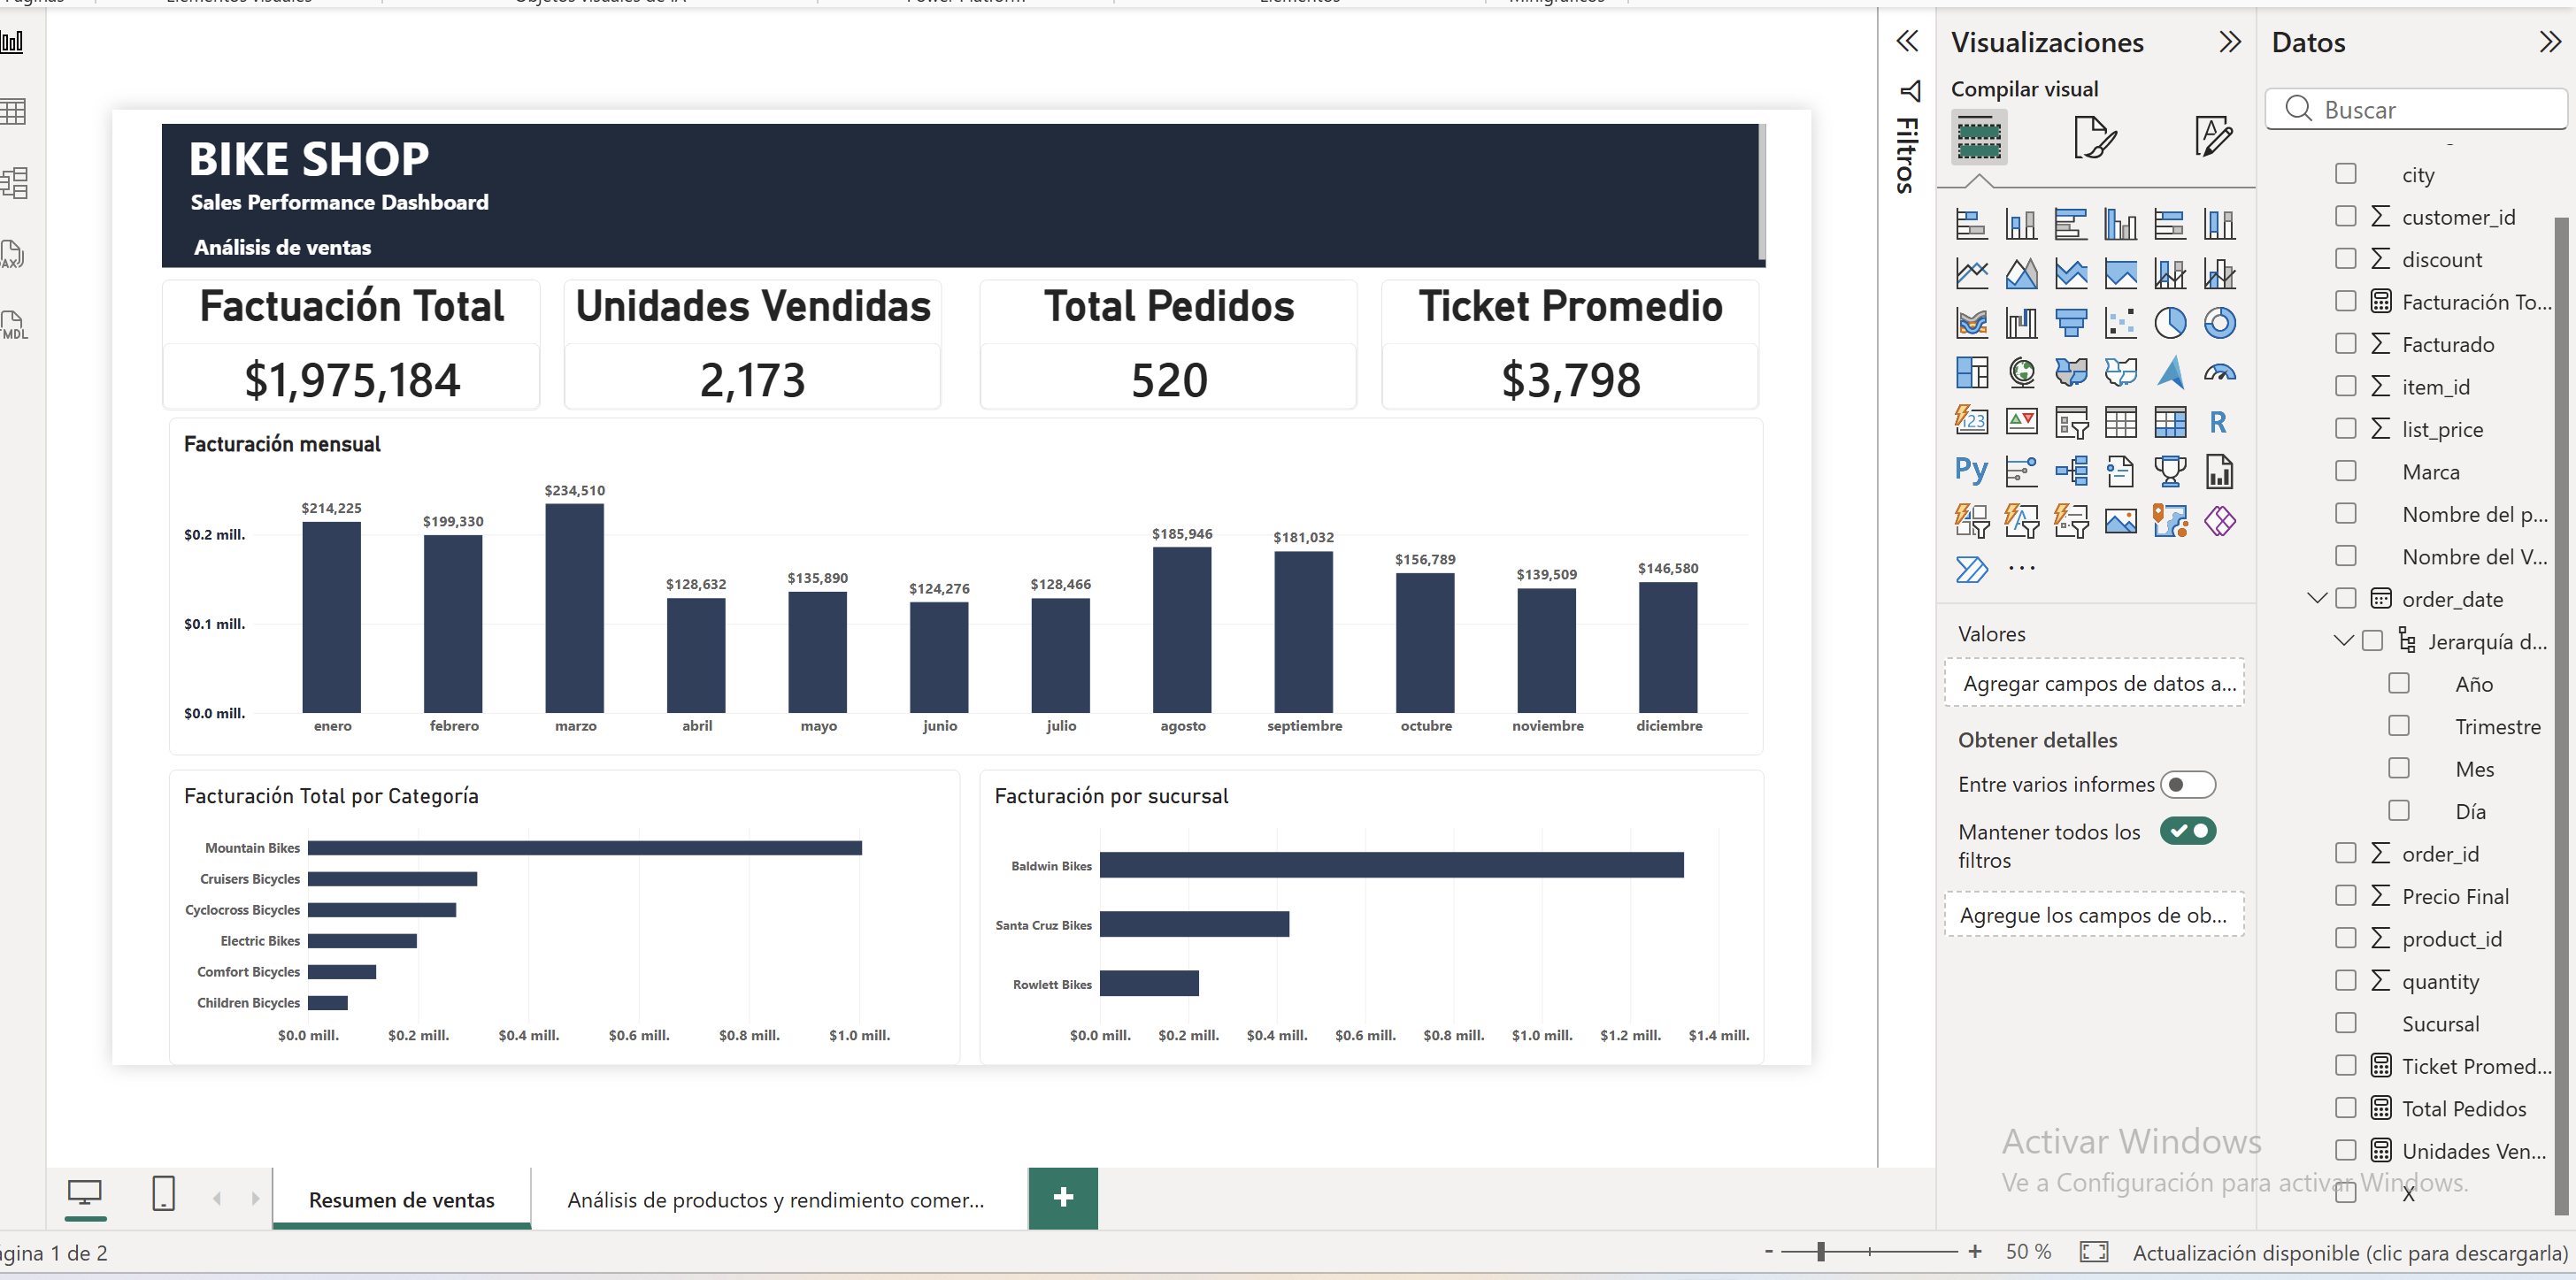

The dashboard page shown, as its layout file describes it:
{"tool":"powerbi","page":{"name":"Resumen de ventas","canvas":[1920,1080],"ordinal":0},"visuals":[{"type":"cardVisual","title":"Factuación Total","fields":{"Data":["order_items.Facturación Total"]},"box":[56,192,428,148],"z":0},{"type":"textbox","box":[55,15,1812.5,162.5],"z":1000},{"type":"cardVisual","title":"Unidades Vendidas","fields":{"Data":["order_items.Unidades Vendidas"]},"box":[510,192,427.5,147.5],"z":2000},{"type":"cardVisual","title":"Total Pedidos","fields":{"Data":["order_items.Total Pedidos"]},"box":[980,192,427.5,147.5],"z":3000},{"type":"cardVisual","title":"Ticket Promedio","fields":{"Data":["order_items.Ticket Promedio"]},"box":[1434,192,427.5,147.5],"z":4000},{"type":"clusteredColumnChart","title":"Facturación mensual","fields":{"Category":["order_items.order_date.Variación.Jerarquía de fechas.Año","order_items.order_date.Variación.Jerarquía de fechas.Trimestre","order_items.order_date.Variación.Jerarquía de fechas.Mes","order_items.order_date.Variación.Jerarquía de fechas.Día"],"Y":["order_items.Facturación Total"]},"box":[64,348,1802,382],"z":5000},{"type":"barChart","fields":{"Category":["order_items.Categoría"],"Y":["order_items.Facturación Total"]},"box":[64.3,745.7,894.3,334.3],"z":6000},{"type":"barChart","title":"Facturación por sucursal","fields":{"Category":["order_items.Sucursal"],"Y":["order_items.Facturación Total"]},"box":[980,745.7,887.1,334.3],"z":7000}]}

Visuals, with their boxes on the page's 1920x1080 design canvas (x1, y1, x2, y2). These are canvas units, not pixel positions in the 2576x1280 screenshot, which may show the page scaled, cropped or inside an application window:
"Factuación Total" cardVisual: {"left": 56, "top": 192, "right": 484, "bottom": 340}
textbox: {"left": 55, "top": 15, "right": 1868, "bottom": 178}
"Unidades Vendidas" cardVisual: {"left": 510, "top": 192, "right": 938, "bottom": 340}
"Total Pedidos" cardVisual: {"left": 980, "top": 192, "right": 1408, "bottom": 340}
"Ticket Promedio" cardVisual: {"left": 1434, "top": 192, "right": 1862, "bottom": 340}
"Facturación mensual" clusteredColumnChart: {"left": 64, "top": 348, "right": 1866, "bottom": 730}
barChart - order_items.Categoría x order_items.Facturación Total: {"left": 64, "top": 746, "right": 959, "bottom": 1080}
"Facturación por sucursal" barChart: {"left": 980, "top": 746, "right": 1867, "bottom": 1080}
